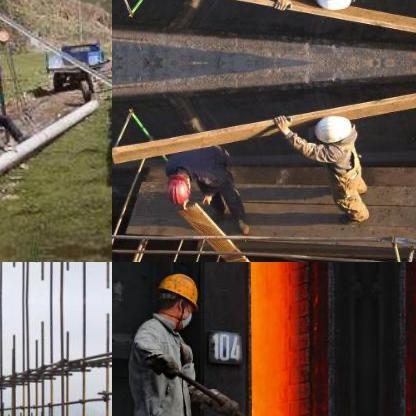Helmet: (149, 262, 201, 328), (310, 110, 356, 150), (164, 166, 192, 206), (310, 0, 358, 13)
